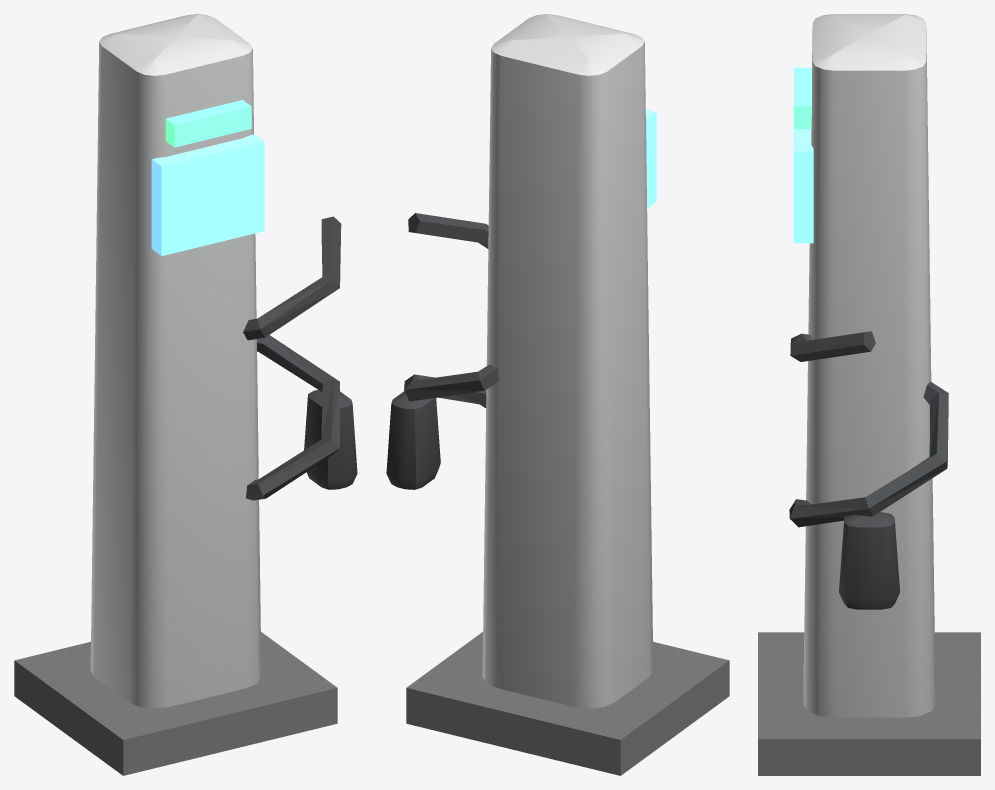
The model's file is car-park-and-road-vehicle-fleet-ev-charge-post-b7fe4a0b__32554.glb.
3 views of the same model, side by side, from view 1: azimuth 30°, elevation 25°; view 2: azimuth 150°, elevation 25°; view 3: azimuth 270°, elevation 25° (orthographic). The views are drawn at different scales.
Visible parts, largest first — view 1: ev-charge-post; view 2: ev-charge-post; view 3: ev-charge-post.
Part boxes in pixels (left/top/right/bottom): ev-charge-post: left=14, top=14, right=357, bottom=775; ev-charge-post: left=386, top=14, right=729, bottom=775; ev-charge-post: left=758, top=14, right=980, bottom=775.
Size of the model in its own units: 0.655 by 1.5 by 0.44.
5 materials, 1 textured.
